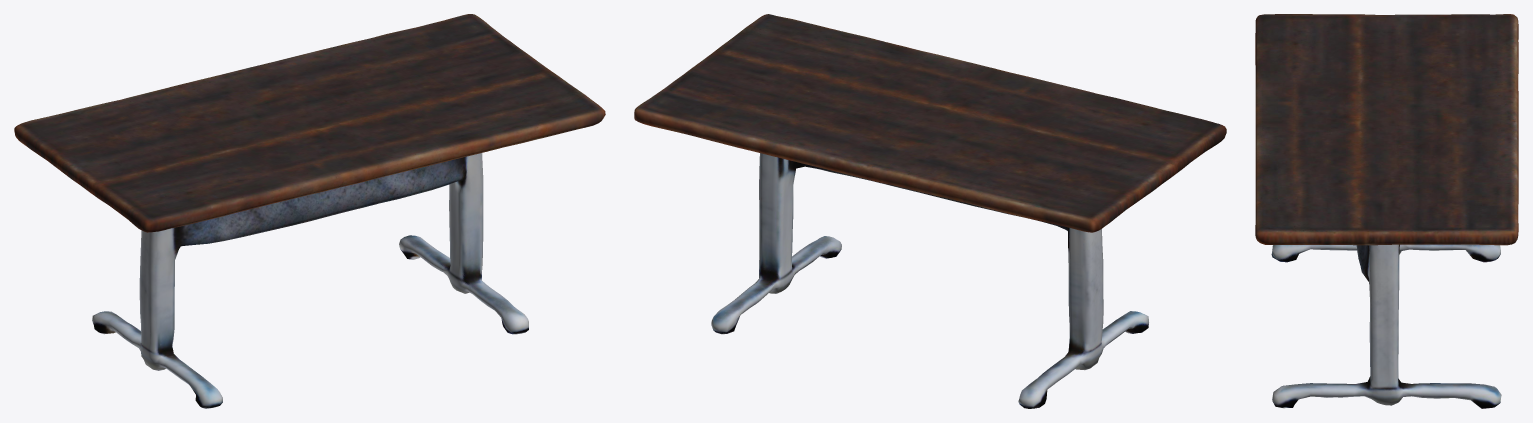
File: 6e2dc3ceb805_office_table_with_m.fbx
The picture shows the model from 3 angles, left to right: view 1: azimuth 30°, elevation 25°; view 2: azimuth 150°, elevation 25°; view 3: azimuth 270°, elevation 25°; orthographic projection. The views are drawn at different scales.
Visible parts, largest first — view 1: mesh; view 2: mesh; view 3: mesh.
Boxes of the visible parts, left/top/right/bottom form: mesh: left=14, top=14, right=605, bottom=408; mesh: left=634, top=14, right=1226, bottom=408; mesh: left=1255, top=14, right=1518, bottom=408.
Size of the model in its own units: 99.88 by 44.69 by 50.32.
